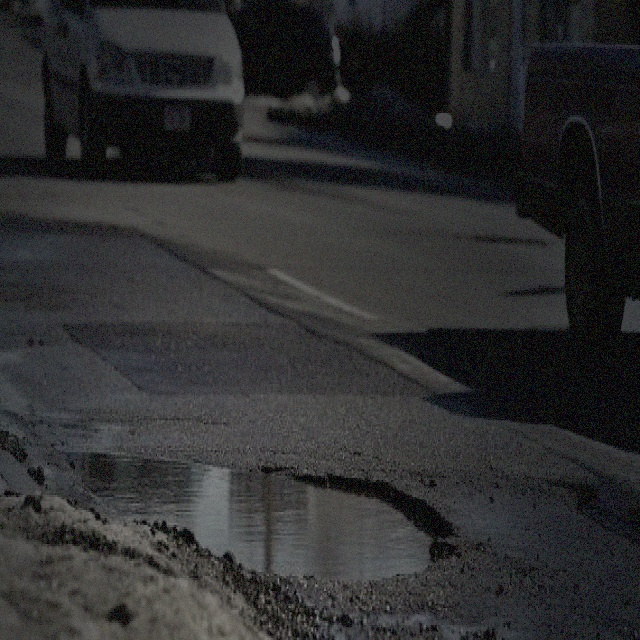pothole: (59, 446, 458, 576), (552, 476, 598, 506)
